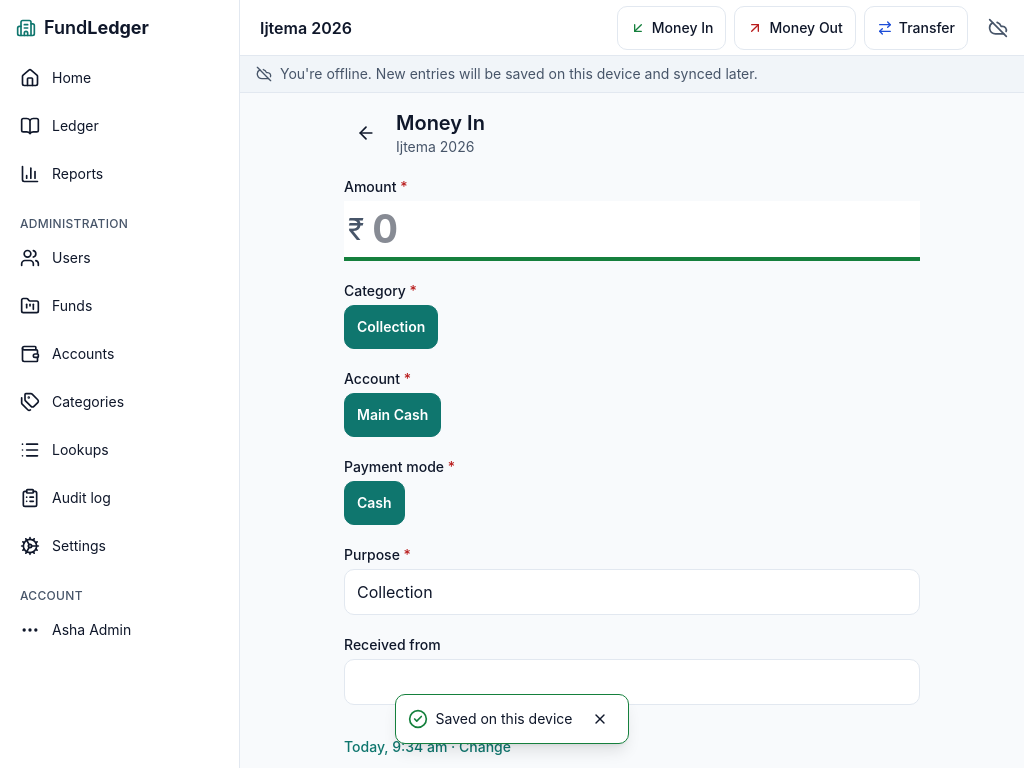
offline entry and the sync screen › goes straight to the queue when the device is offline, using reference data remembered from the last visit
Expected: the radio button labelled "Collection" is shown, [344,305,438,349]
Type "700" into the field labelled "Amount *" at (644, 229), box [372,201,916,257]
(page scrolled)
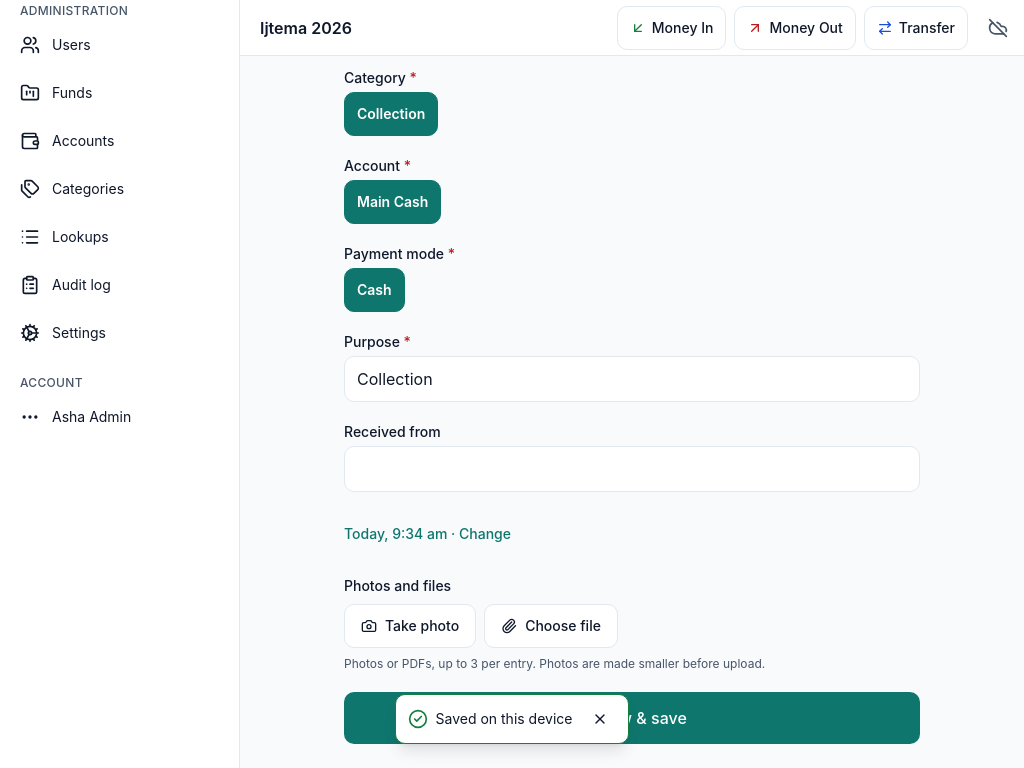
Expected: the radio button labelled "Collection" is checked, [344,92,438,136]
Click the button "Review & save" at (632, 718), box [344,692,920,744]
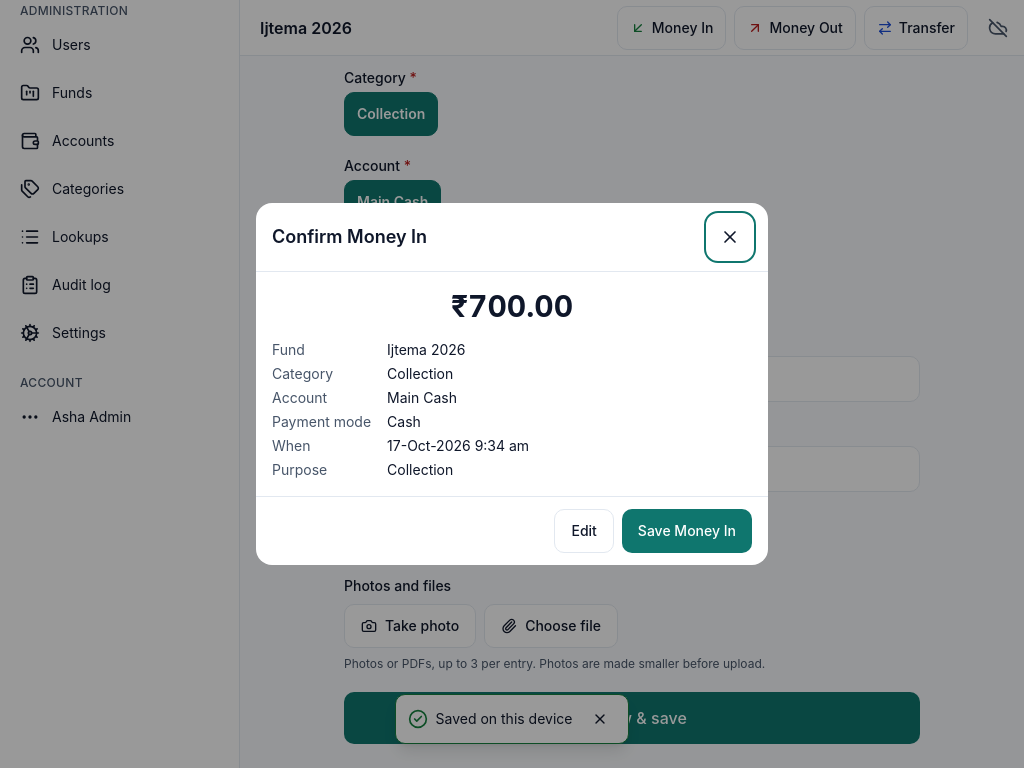
Click the button "Save Money In" at (687, 531), box [622,509,752,553]
(page scrolled)
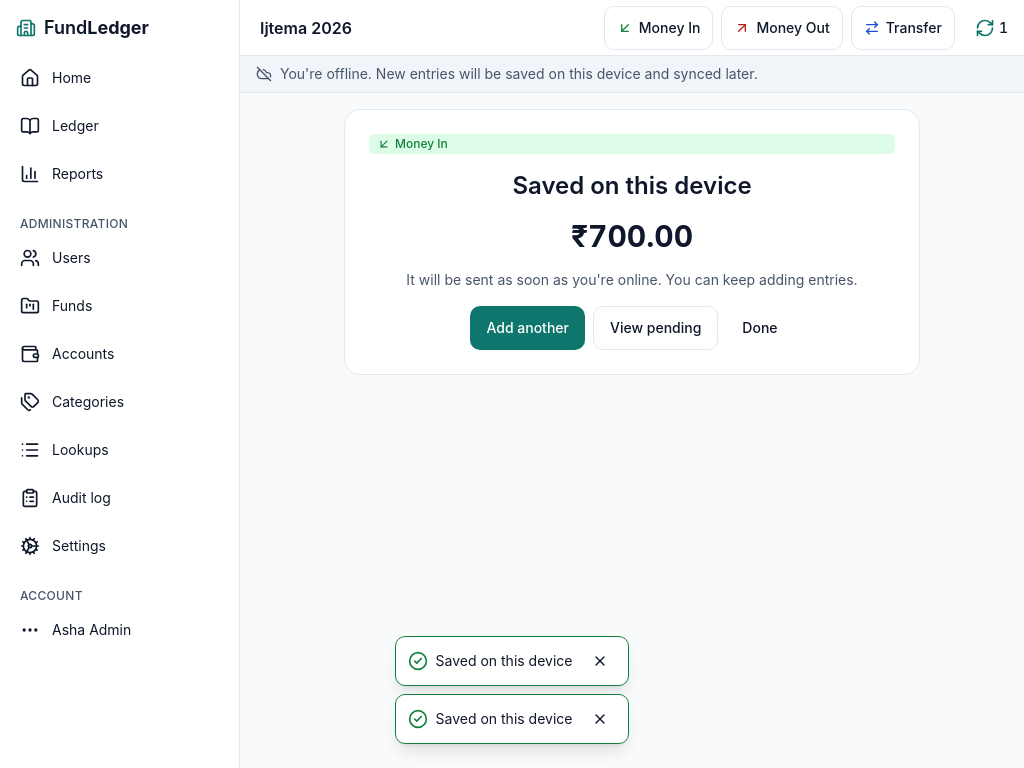
Result: the heading "Saved on this device" is shown at [512,171,752,200]
